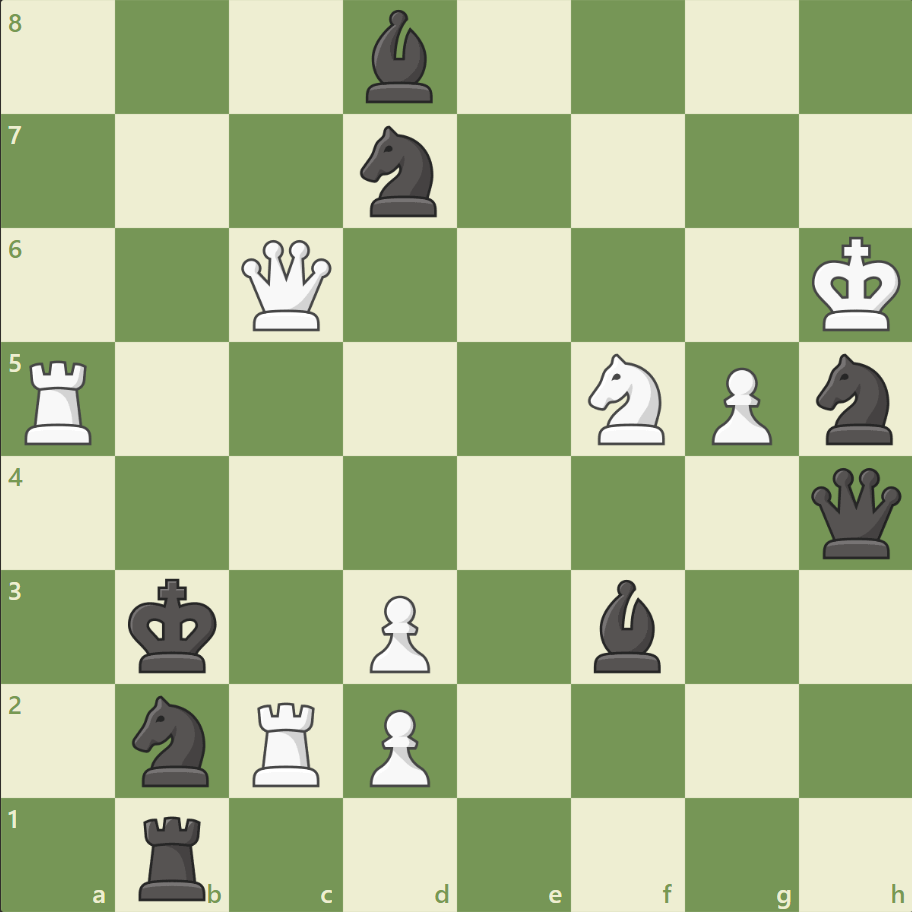K: (806, 231, 906, 339)
N: (579, 348, 676, 450)
P: (701, 359, 776, 450), (361, 586, 435, 677), (361, 700, 435, 791)
Q: (237, 236, 336, 335)
R: (19, 352, 102, 449), (246, 693, 329, 790)
b: (358, 6, 442, 109), (585, 574, 669, 676)
k: (124, 571, 224, 679)
n: (124, 688, 222, 791), (351, 121, 449, 223), (806, 348, 903, 450)
q: (805, 463, 904, 562)
r: (133, 806, 215, 904)
